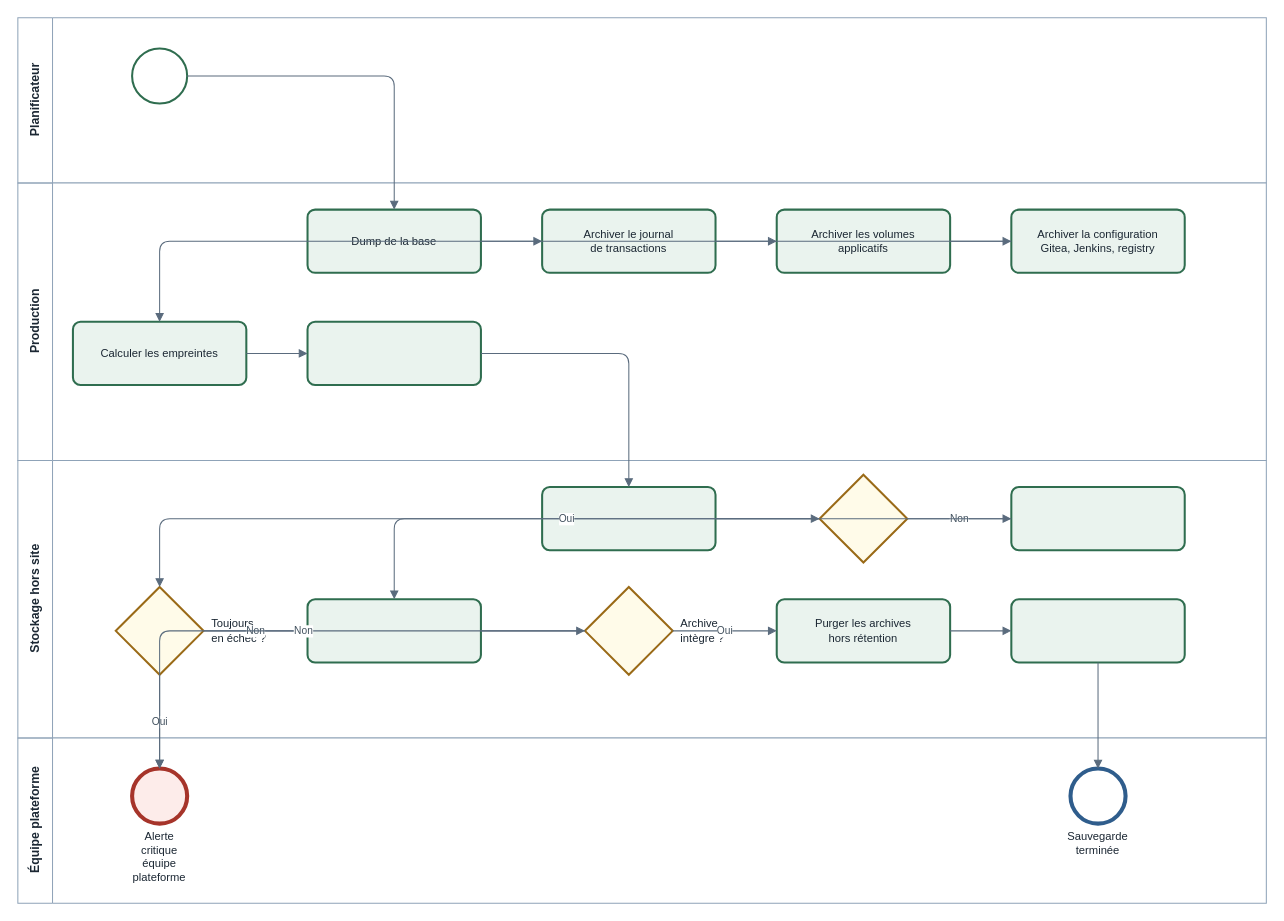
Image size: 1284x921. Some labels were removed from this diagram. The shapes that lost their labels are listed below. From the top down, each one's centre as x and y in pixels, then its label:
point 159,75: Planificateur, 2 h du matin
point 393,353: Chiffrer l'archive
point 628,518: Transférer hors site
point 863,518: Transfert réussi ?
point 1097,518: Nouvelle tentative, 3 fois
point 393,630: Vérifier l'empreinte à distance
point 1097,630: Publier les métriques de sauvegarde
